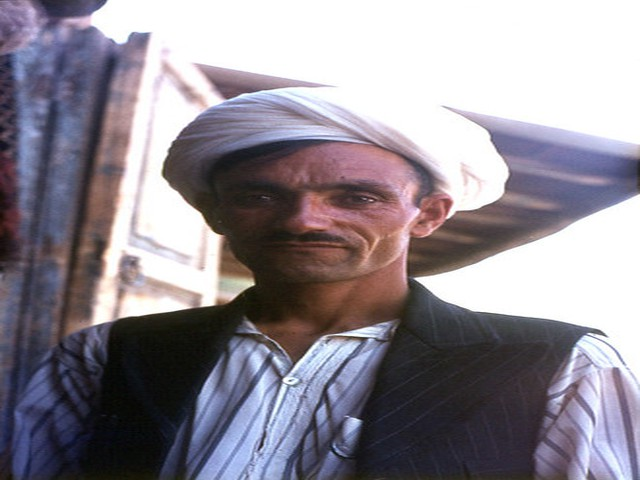Person: (22, 77, 637, 477)
